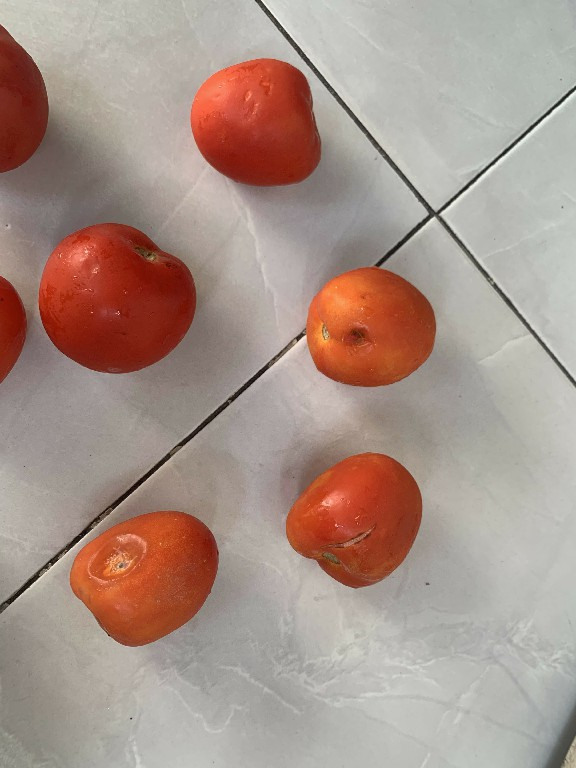NG: (62, 502, 220, 647), (273, 447, 420, 592), (299, 262, 444, 396)
OK: (35, 210, 204, 379), (182, 53, 325, 198)
